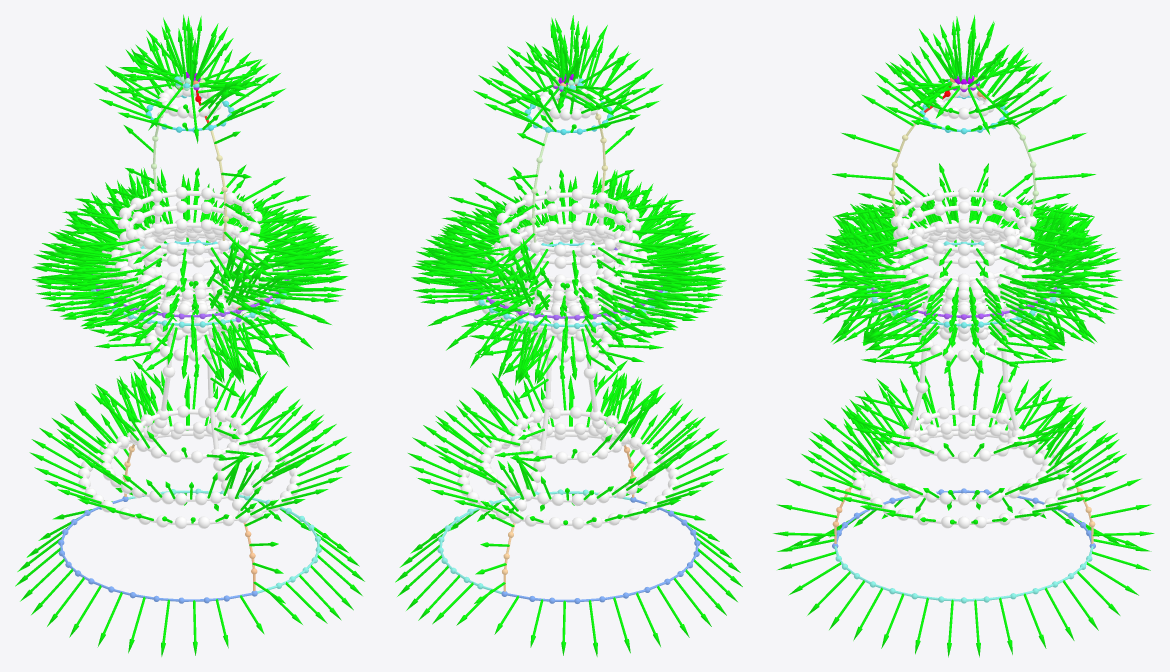
Rendered from onshape_bishop.gltf.
3 renders of one model, left to right at view 1: azimuth 30°, elevation 25°; view 2: azimuth 150°, elevation 25°; view 3: azimuth 270°, elevation 25°, orthographic.
Size of the model in its own units: 0.5529 by 0.9833 by 0.6069.
